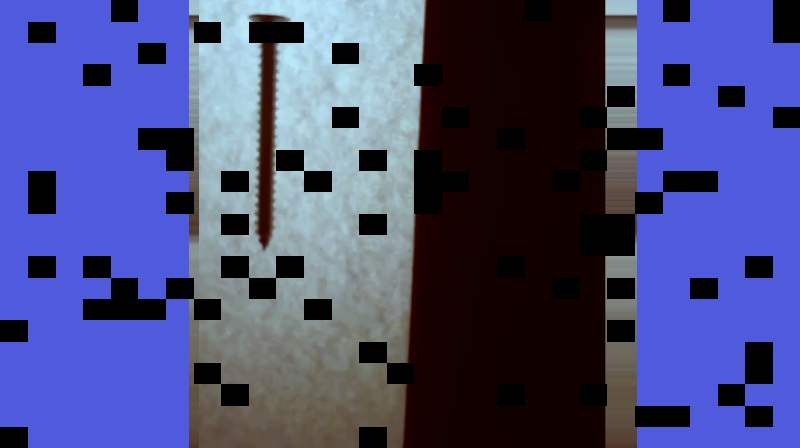S002: (240, 8, 292, 252)
